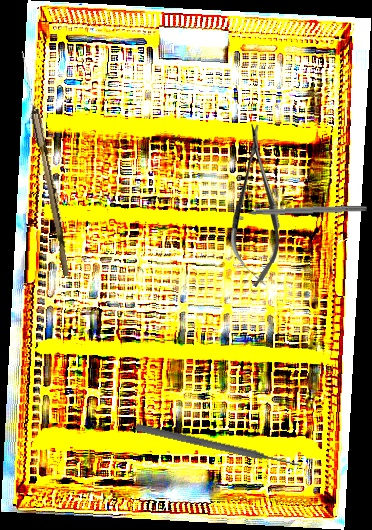Hook Surgical: (230, 203, 368, 217)
Micro Scissor: (230, 124, 282, 287)
Pusher: (134, 422, 303, 471)
Surgical Spoon: (16, 50, 75, 277)
